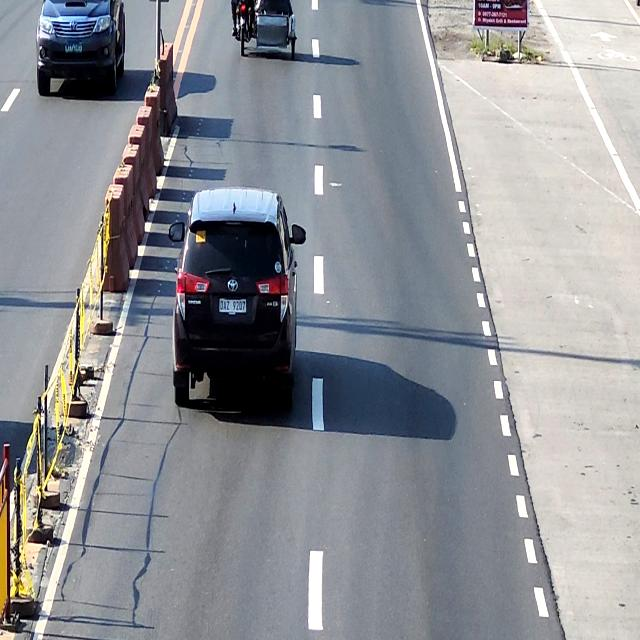Car: (167, 189, 306, 408), (36, 0, 125, 96)
License-Plate: (220, 298, 247, 313), (64, 42, 83, 52)
Tricycle: (236, 0, 296, 56)
